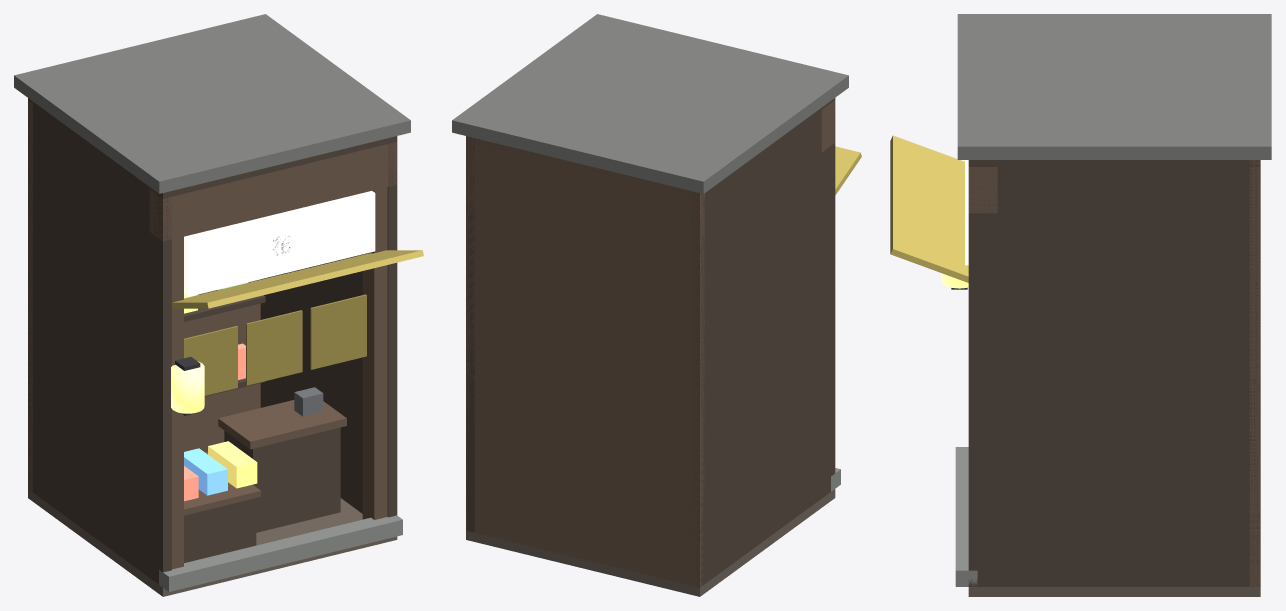
File: shop_ki.glb
3 renders of one model, left to right at view 1: azimuth 30°, elevation 25°; view 2: azimuth 150°, elevation 25°; view 3: azimuth 270°, elevation 25°, orthographic. The views are drawn at different scales.
Parts seen in each view (by area): view 1: shop_ki; view 2: shop_ki; view 3: shop_ki.
Boxes of the visible parts, left/top/right/bottom form: shop_ki: left=14, top=14, right=423, bottom=596; shop_ki: left=452, top=14, right=861, bottom=596; shop_ki: left=890, top=14, right=1271, bottom=596.
Size of the model in its own units: 8.6 by 13.75 by 10.44.
